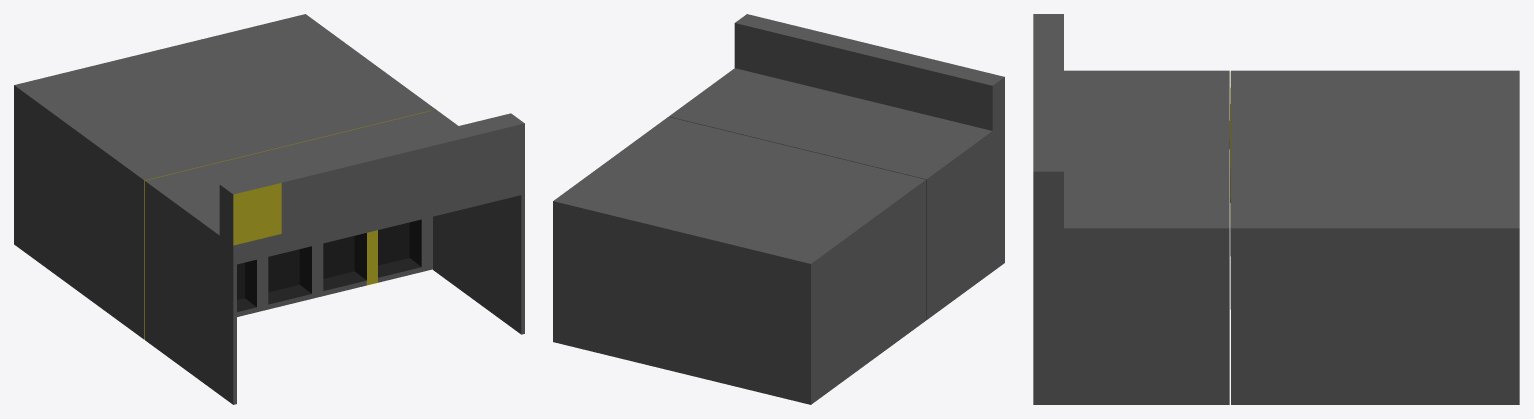
The model's file is loja_10.fbx.
3 views of the same model, side by side, from view 1: azimuth 30°, elevation 25°; view 2: azimuth 150°, elevation 25°; view 3: azimuth 270°, elevation 25° (orthographic). The views are drawn at different scales.
Parts seen in each view (by area): view 1: Cube; view 2: Cube; view 3: Cube.
Boxes of the visible parts, x1=… form: Cube: x1=14, y1=14, x2=524, y2=404; Cube: x1=553, y1=14, x2=1004, y2=404; Cube: x1=1033, y1=14, x2=1519, y2=404.
Bounding box in the file's own units: 2987 × 2060 × 3891.
